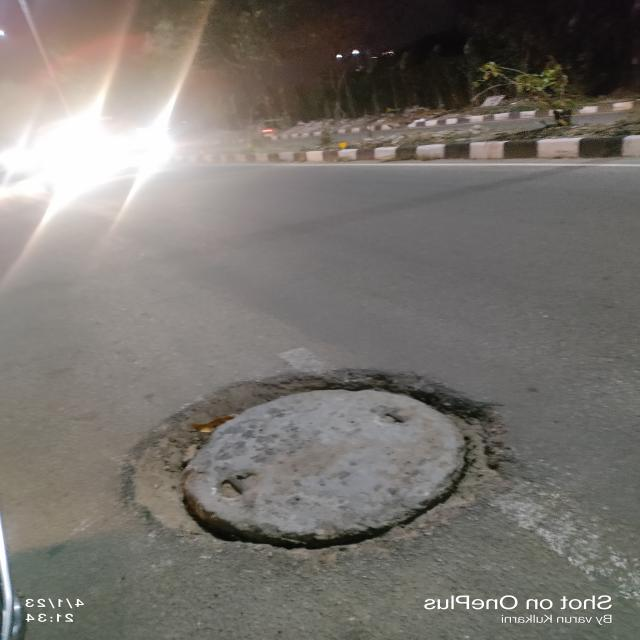manhole: (107, 381, 510, 555)
